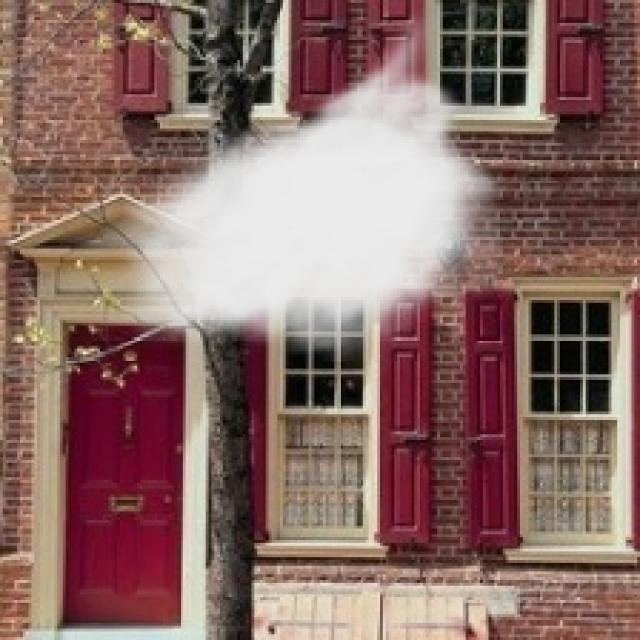Smoke: (97, 8, 512, 363)
